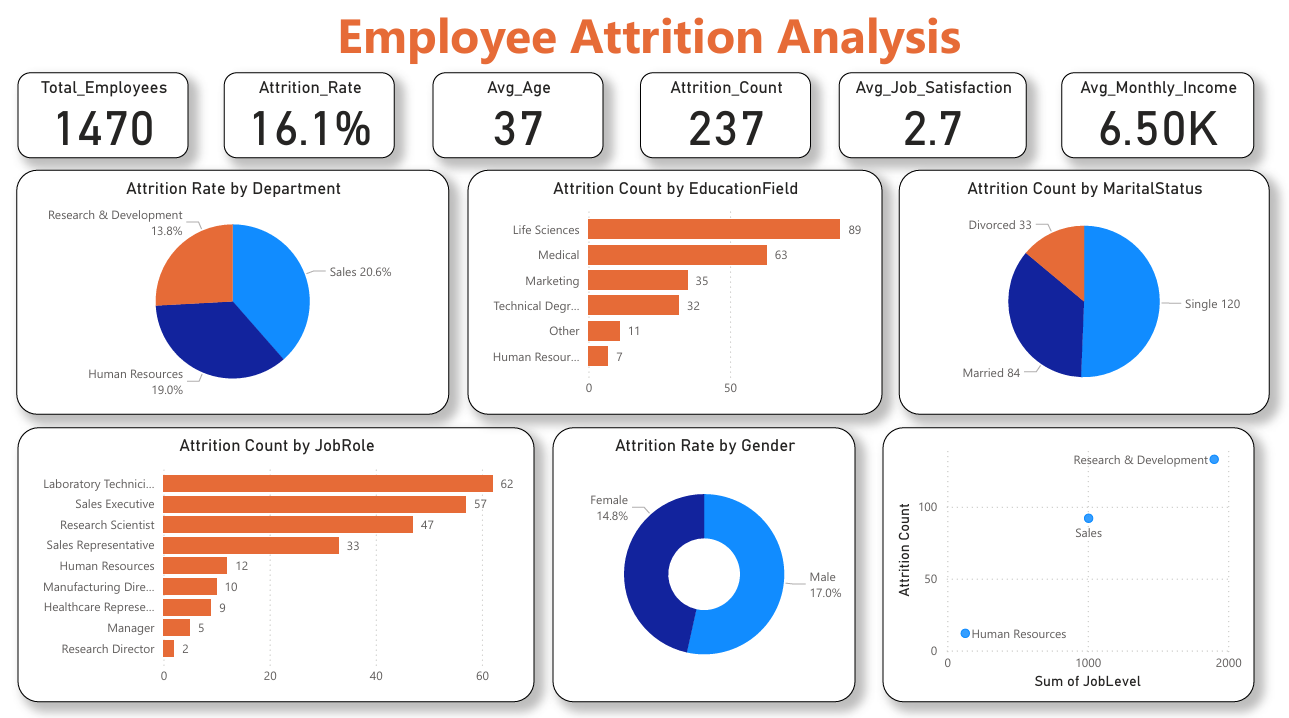

The page's visual inventory and layout, read from the dashboard file:
{"tool":"powerbi","page":{"name":"Page 1","canvas":[1280,720],"ordinal":0},"visuals":[{"type":"textbox","box":[309.4,0,678.7,75.8],"z":0},{"type":"card","title":"Total_Employees","fields":{"Values":["calculation.Total Employees"]},"box":[17.1,75.8,171.2,85.6],"z":1000},{"type":"card","title":"Attrition_Rate","fields":{"Values":["calculation.Attrition Rate"]},"box":[223.8,75.8,171.2,85.6],"z":2000},{"type":"card","title":"Avg_Age","fields":{"Values":["calculation.Avg Age"]},"box":[432.9,75.8,171.2,85.6],"z":3000},{"type":"card","title":"Attrition_Count","fields":{"Values":["calculation.Attrition Count"]},"box":[639.5,75.8,171.2,85.6],"z":4000},{"type":"card","title":"Avg_Monthly_Income","fields":{"Values":["calculation.Avg Monthly Income"]},"box":[1061.4,75.8,193.2,85.6],"z":5000},{"type":"card","title":"Avg_Job_Satisfaction","fields":{"Values":["calculation.Avg Job Satisfaction"]},"box":[838.9,75.8,188.3,85.6],"z":6000},{"type":"pieChart","fields":{"Category":["HR-Employee-Attrition.Department"],"Y":["calculation.Attrition Rate"]},"box":[15.9,173.6,432.9,244.6],"z":6001},{"type":"barChart","fields":{"Category":["HR-Employee-Attrition.JobRole"],"Y":["calculation.Attrition Count"]},"box":[17.1,431.7,517.3,275.1],"z":6002},{"type":"clusteredBarChart","fields":{"Category":["HR-Employee-Attrition.EducationField"],"Y":["calculation.Attrition Count"]},"box":[467.1,173.6,414.5,244.6],"z":6003},{"type":"donutChart","fields":{"Category":["HR-Employee-Attrition.Gender"],"Y":["calculation.Attrition Rate"]},"box":[552.7,431.7,303.3,275.1],"z":6004},{"type":"pieChart","fields":{"Category":["HR-Employee-Attrition.MaritalStatus"],"Y":["calculation.Attrition Count"]},"box":[898.8,173.6,370.5,244.6],"z":6005},{"type":"scatterChart","fields":{"Category":["HR-Employee-Attrition.Department"],"X":["Sum(HR-Employee-Attrition.JobLevel)"],"Y":["calculation.Attrition Count"]},"box":[882.9,431.7,371.7,275.1],"z":6006}]}

Visuals, with their boxes in screenshot pixels (x1, y1, x2, y2), scaled from the page's 1280x720 canvas onto the 1289x718 screenshot:
textbox: [312,0,995,76]
"Total_Employees" card: [17,76,190,161]
"Attrition_Rate" card: [225,76,398,161]
"Avg_Age" card: [436,76,608,161]
"Attrition_Count" card: [644,76,816,161]
"Avg_Monthly_Income" card: [1069,76,1263,161]
"Avg_Job_Satisfaction" card: [845,76,1034,161]
pieChart - HR-Employee-Attrition.Department x calculation.Attrition Rate: [16,173,452,417]
barChart - HR-Employee-Attrition.JobRole x calculation.Attrition Count: [17,431,538,705]
clusteredBarChart - HR-Employee-Attrition.EducationField x calculation.Attrition Count: [470,173,888,417]
donutChart - HR-Employee-Attrition.Gender x calculation.Attrition Rate: [557,431,862,705]
pieChart - HR-Employee-Attrition.MaritalStatus x calculation.Attrition Count: [905,173,1278,417]
scatterChart - HR-Employee-Attrition.Department x Sum(HR-Employee-Attrition.JobLevel): [889,431,1263,705]
